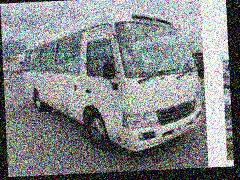bus: (20, 6, 203, 159)
